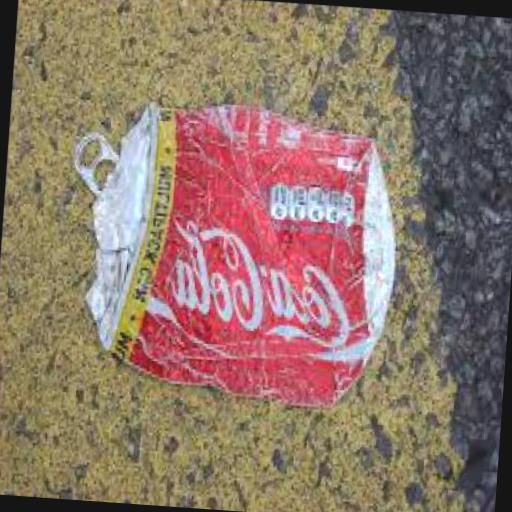metal: (60, 98, 409, 408)
